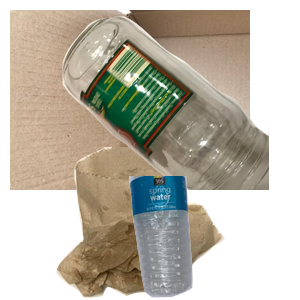cardboard: (10, 10, 250, 190)
glass: (60, 14, 300, 194)
plastic: (127, 176, 300, 300)
trash: (54, 147, 271, 300)
